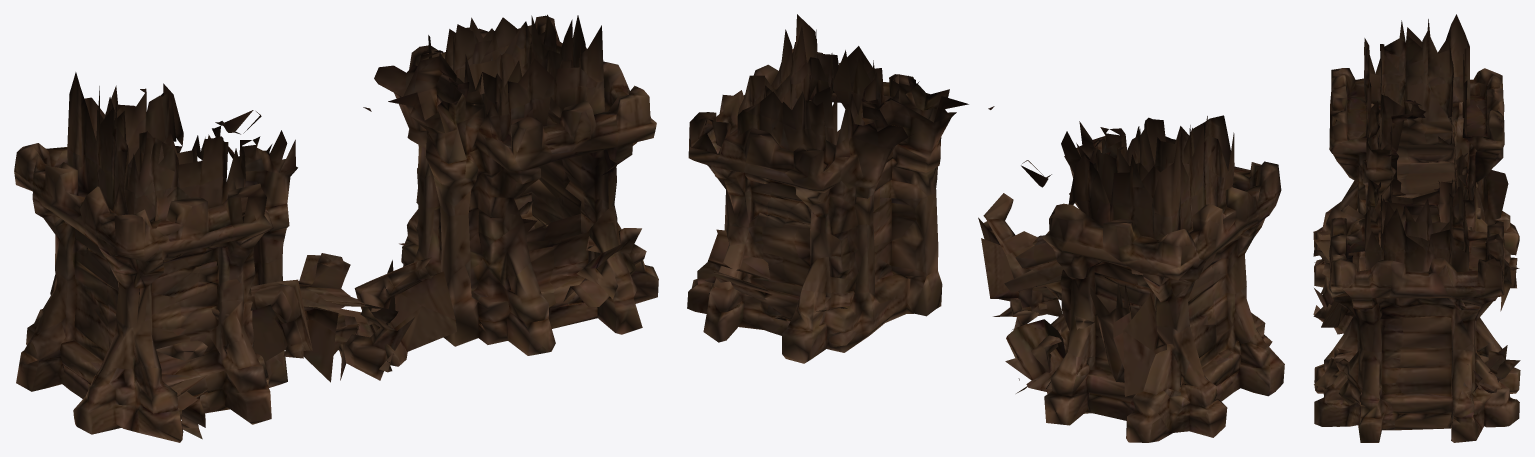
File: gate_large_destroyed.glb
The picture shows the model from 3 angles, left to right: view 1: azimuth 30°, elevation 25°; view 2: azimuth 150°, elevation 25°; view 3: azimuth 270°, elevation 25°; orthographic projection. The views are drawn at different scales.
Bounding box in the file's own units: 1.9 × 0.9746 × 0.7756.
Materials: 1 (1 with a texture image).
